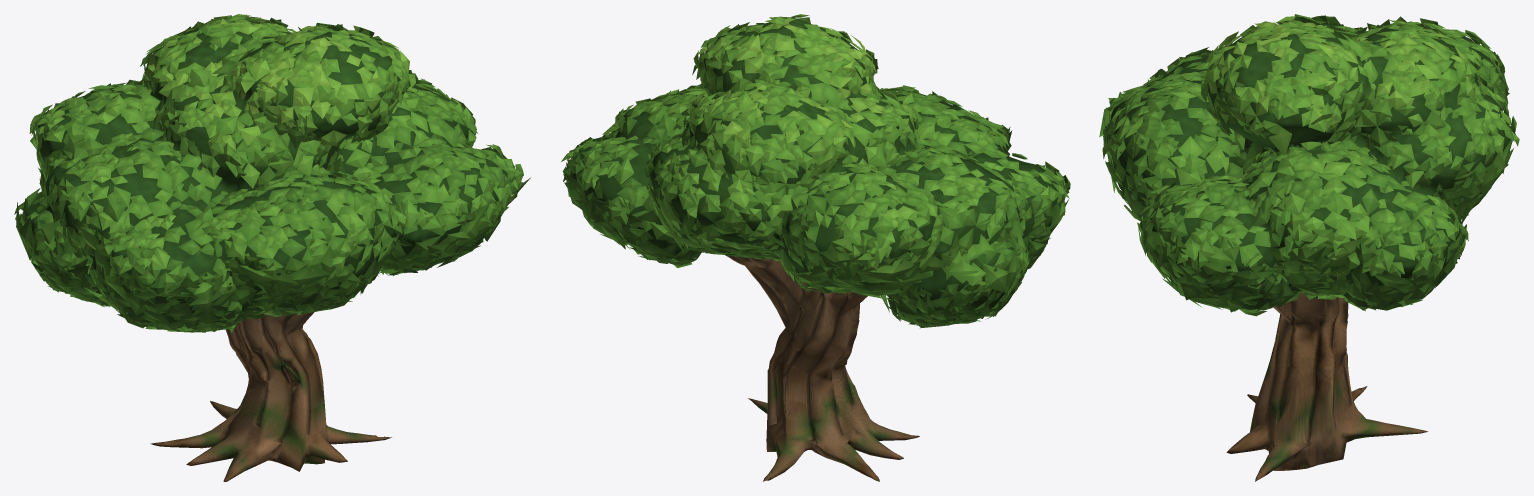
The model's file is Roble_Abuelo_v06c.glb.
The picture shows the model from 3 angles, left to right: view 1: azimuth 30°, elevation 25°; view 2: azimuth 150°, elevation 25°; view 3: azimuth 270°, elevation 25°; orthographic projection. The views are drawn at different scales.
Parts seen in each view (by area): view 1: Roble_Abuelo_Leaves, Roble_Abuelo_Wood; view 2: Roble_Abuelo_Leaves, Roble_Abuelo_Wood; view 3: Roble_Abuelo_Leaves, Roble_Abuelo_Wood.
Boxes of the visible parts, x1=… form: Roble_Abuelo_Leaves: x1=14, y1=14, x2=530, y2=332; Roble_Abuelo_Wood: x1=150, y1=205, x2=396, y2=481; Roble_Abuelo_Leaves: x1=561, y1=14, x2=1070, y2=328; Roble_Abuelo_Wood: x1=726, y1=255, x2=919, y2=481; Roble_Abuelo_Leaves: x1=1099, y1=14, x2=1519, y2=316; Roble_Abuelo_Wood: x1=1226, y1=292, x2=1427, y2=481.
Size of the model in its own units: 61.2 by 55.91 by 48.54.
2 materials, 2 textured.
